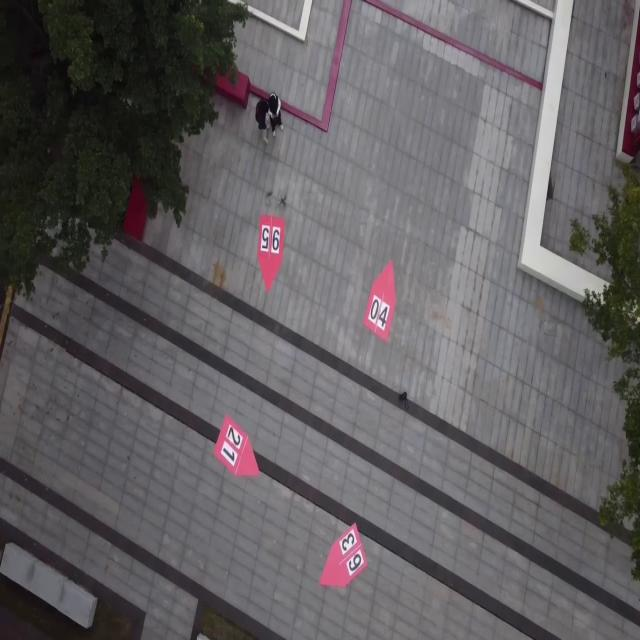-sign-: (319, 522, 368, 590), (213, 415, 260, 479), (364, 259, 397, 343), (257, 212, 284, 293)
